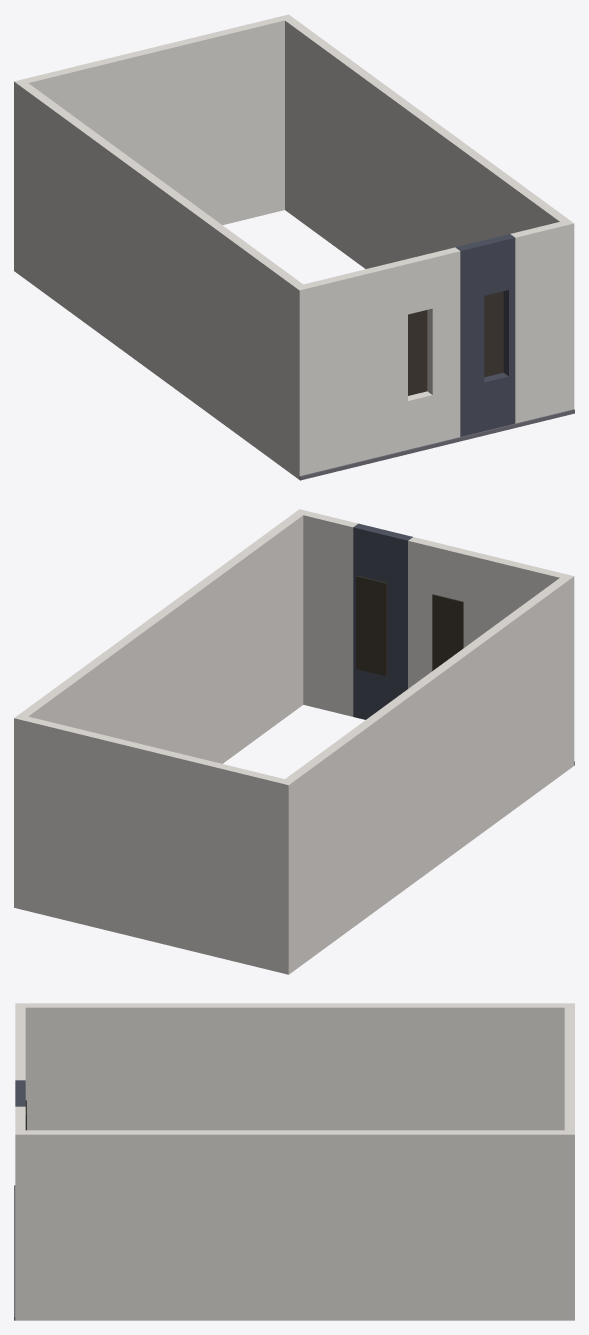
The model's file is SM_Floor_NarrowUpperScatterLow_White_455_01.gltf.
The picture shows the model from 3 angles, top to bottom: view 1: azimuth 30°, elevation 25°; view 2: azimuth 150°, elevation 25°; view 3: azimuth 270°, elevation 25°; orthographic projection. The views are drawn at different scales.
Visible parts, largest first — view 1: SM_Floor_NarrowUpperScatterLow_White_455_01; view 2: SM_Floor_NarrowUpperScatterLow_White_455_01; view 3: SM_Floor_NarrowUpperScatterLow_White_455_01.
Part boxes in pixels (x1=…): SM_Floor_NarrowUpperScatterLow_White_455_01: x1=14, y1=14, x2=574, y2=480; SM_Floor_NarrowUpperScatterLow_White_455_01: x1=14, y1=509, x2=574, y2=974; SM_Floor_NarrowUpperScatterLow_White_455_01: x1=14, y1=1003, x2=574, y2=1320.
Bounding box in the file's own units: 4.55 × 3 × 8.21.
Materials: 1 (1 with a texture image).
